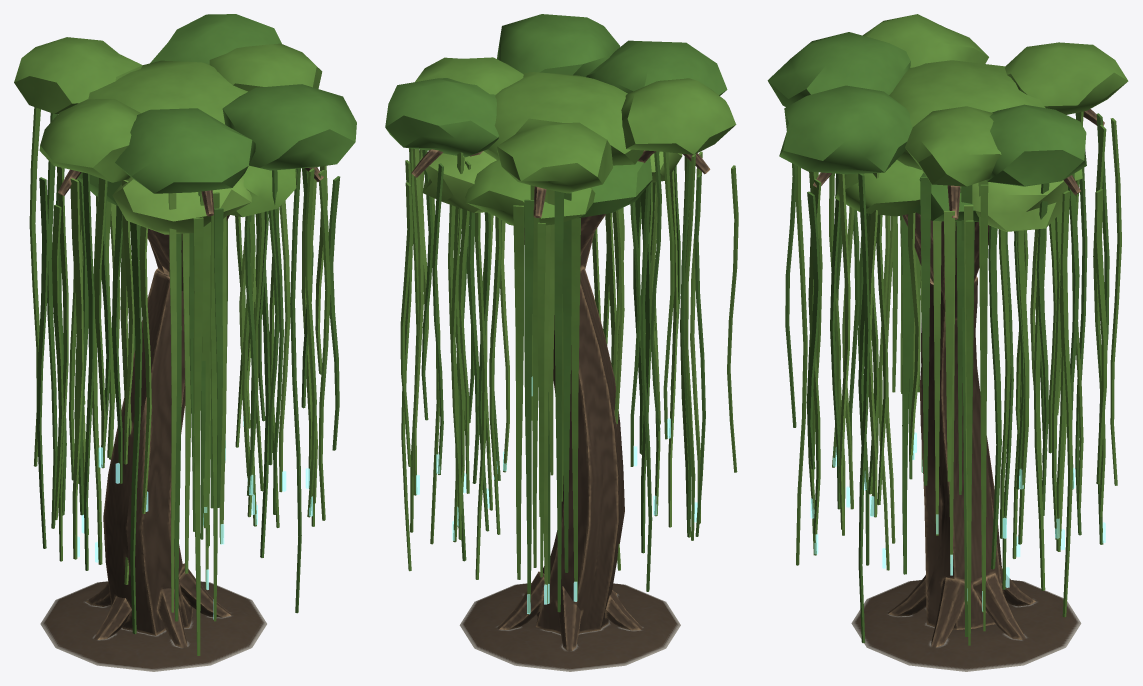
The model's file is arbol_sauce_espacial.fbx.
The picture shows the model from 3 angles, left to right: view 1: azimuth 30°, elevation 25°; view 2: azimuth 150°, elevation 25°; view 3: azimuth 270°, elevation 25°; orthographic projection. The views are drawn at different scales.
Parts seen in each view (by area): view 1: arbol_sauce_espacial, arbol_sauce_espacial_bordes_neon; view 2: arbol_sauce_espacial, arbol_sauce_espacial_bordes_neon; view 3: arbol_sauce_espacial, arbol_sauce_espacial_bordes_neon.
Part boxes in pixels (<box>): arbol_sauce_espacial: <box>14,14,356,671</box>; arbol_sauce_espacial_bordes_neon: <box>77,416,312,619</box>; arbol_sauce_espacial: <box>385,14,738,671</box>; arbol_sauce_espacial_bordes_neon: <box>416,376,697,614</box>; arbol_sauce_espacial: <box>767,14,1128,671</box>; arbol_sauce_espacial_bordes_neon: <box>810,432,1105,611</box>.
Bounding box in the file's own units: 4.88 × 8.7 × 5.02.
Materials: 2 (1 with a texture image).
